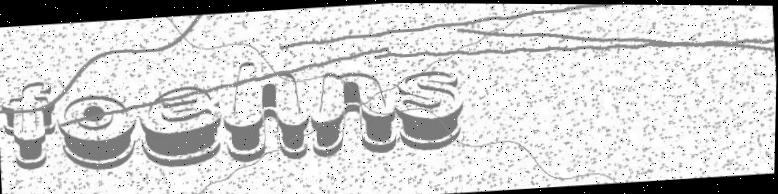e: (136, 76, 226, 169)
f: (1, 78, 67, 175)
h: (216, 52, 314, 168)
n: (303, 64, 403, 160)
o: (54, 88, 143, 174)
s: (390, 61, 469, 154)
